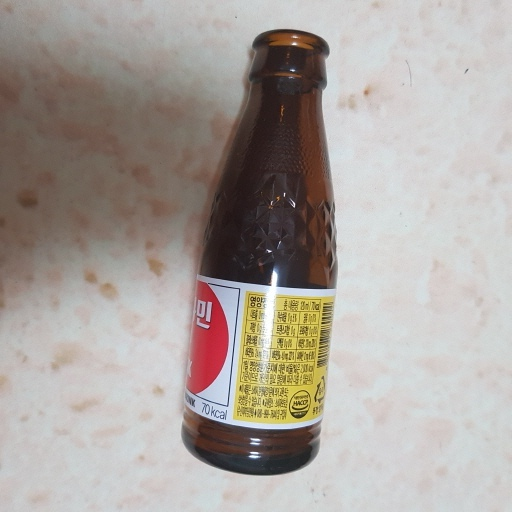Glass_3: (179, 27, 340, 474)
